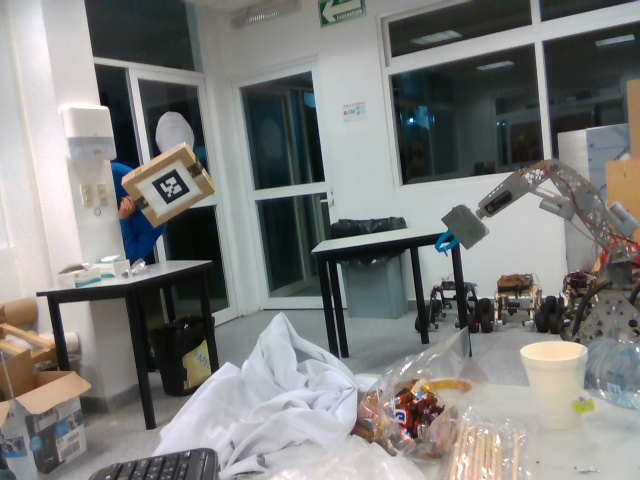ar2: (152, 167, 191, 206)
